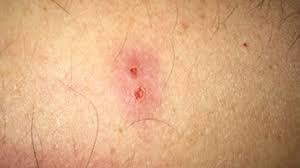Spider: (112, 52, 163, 125)
